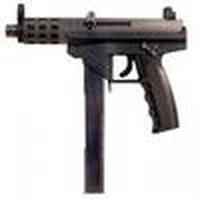gun: (1, 9, 199, 139)
